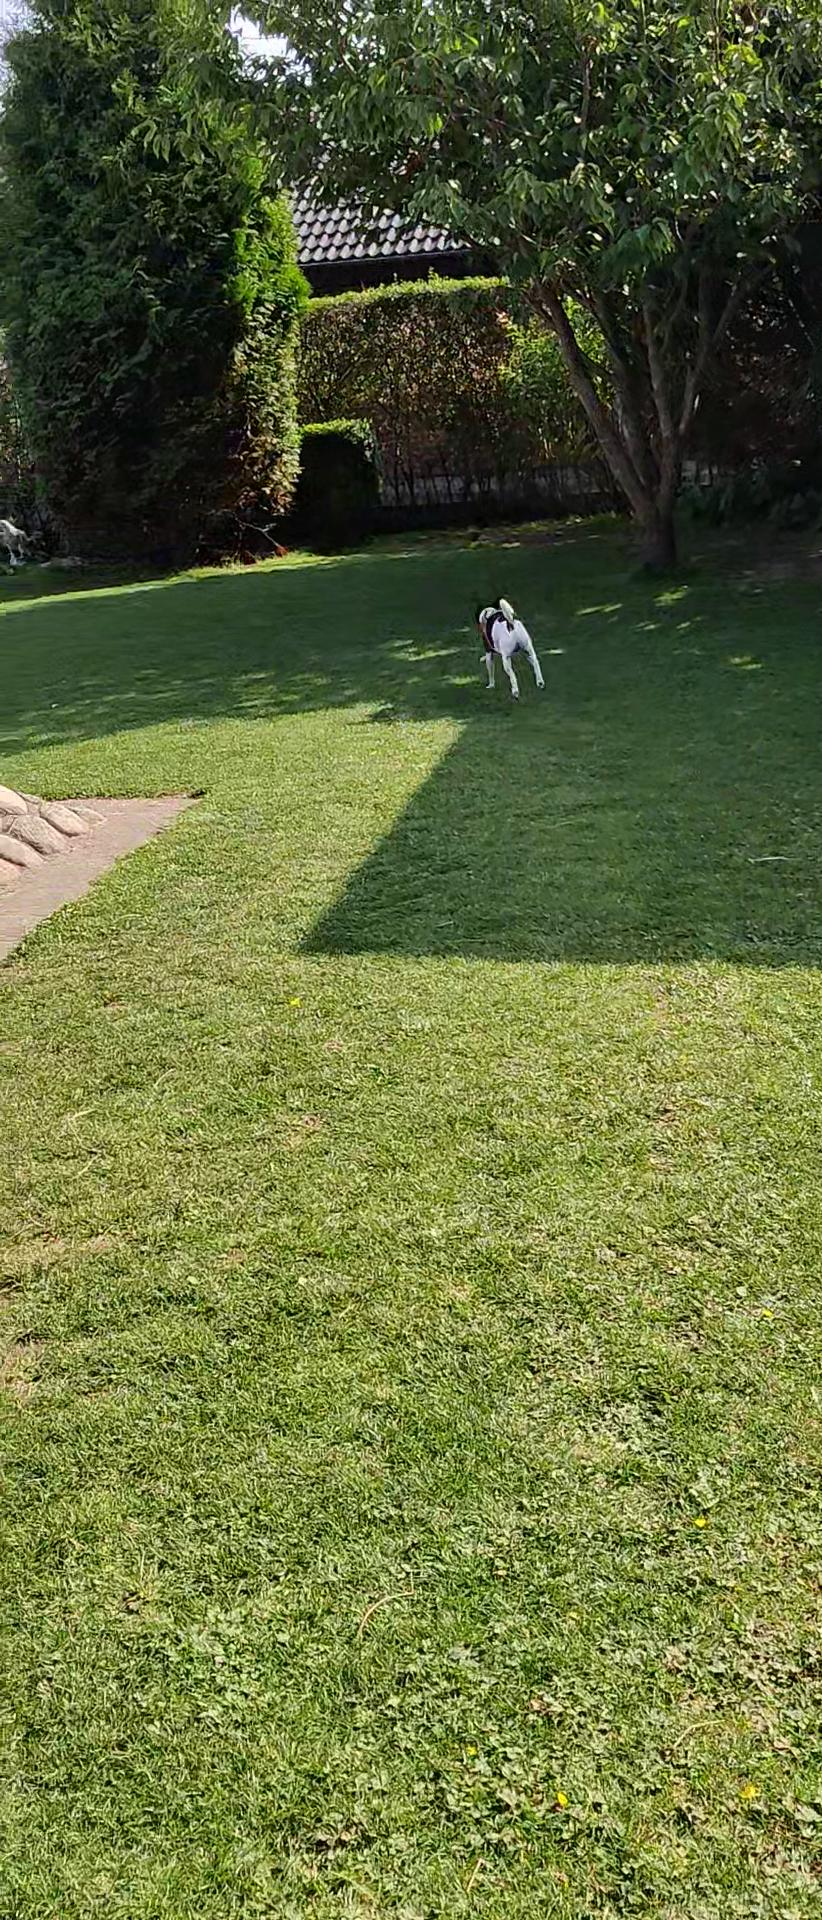Dog: (467, 588, 548, 702)
